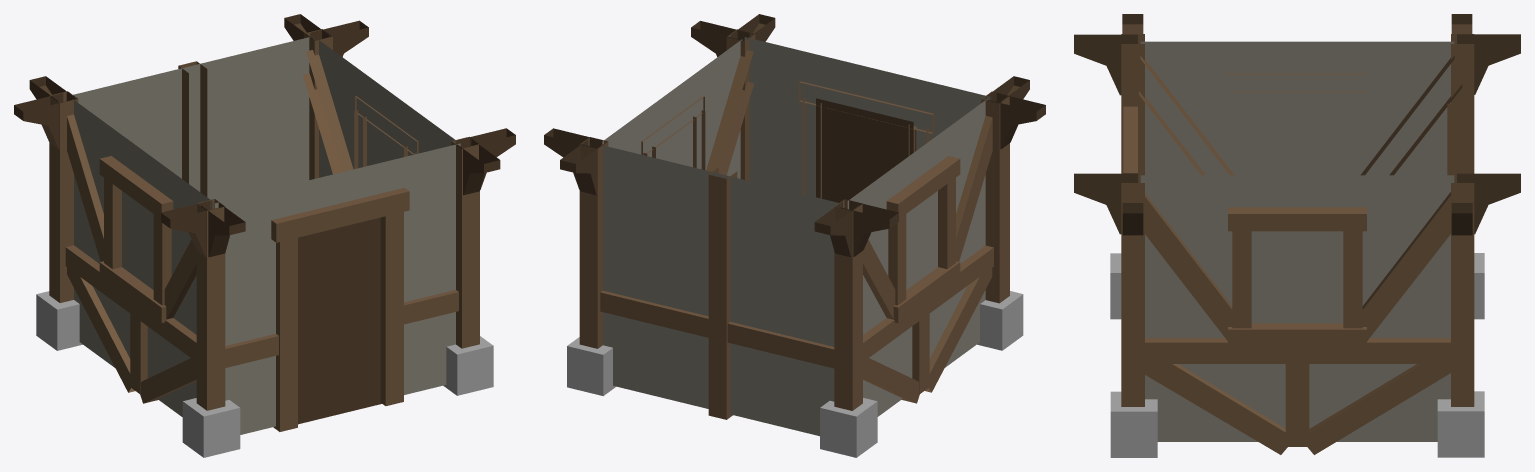
File: M_HouseTower_RDC.fbx
3 renders of one model, left to right at view 1: azimuth 30°, elevation 25°; view 2: azimuth 150°, elevation 25°; view 3: azimuth 270°, elevation 25°, orthographic. The views are drawn at different scales.
Parts seen in each view (by area): view 1: polySurface1, pCube5, Door_low, pCube112, pCube6, pCube111, pCube13, pCube14, pCube24, pCube17, pCube25, pCube110 (+24 smaller); view 2: pCube5, polySurface1, pCube112, pCube6, Door_low, pCube52, pCube17, pCube21, pCube16, pCube111, pCube29, pCube116 (+23 smaller); view 3: pCube6, pCube112, pCube20, pCube14, pCube16, pCube48, pCube47, pCube45, pCube46, pCube34, pCube33, pCube26 (+18 smaller).
Part boxes in pixels (x1,y1,x2,y2): polySurface1: (215, 143, 460, 434); pCube5: (72, 37, 310, 201); Door_low: (298, 217, 381, 424); pCube112: (72, 99, 212, 416); pCube6: (317, 39, 457, 177); pCube111: (196, 199, 225, 410); pCube13: (380, 212, 403, 405); pCube14: (451, 136, 479, 348); pCube24: (273, 237, 297, 431); pCube17: (49, 91, 78, 302); pCube25: (271, 187, 409, 242); pCube110: (182, 398, 240, 457); pCube5: (602, 145, 840, 436); polySurface1: (744, 37, 990, 197); pCube112: (847, 99, 987, 416); pCube6: (602, 39, 742, 178); Door_low: (816, 98, 913, 202); pCube52: (708, 167, 737, 419); pCube17: (834, 199, 862, 410); pCube21: (600, 290, 834, 368); pCube16: (579, 137, 608, 348); pCube111: (981, 91, 1009, 303); pCube29: (820, 398, 877, 457); pCube116: (863, 245, 993, 361); pCube6: (1140, 175, 1454, 441); pCube112: (1140, 41, 1454, 175); pCube20: (1145, 338, 1450, 363); pCube14: (1121, 173, 1144, 406); pCube16: (1451, 173, 1474, 406); pCube48: (1145, 364, 1287, 454); pCube47: (1307, 364, 1450, 454); pCube45: (1362, 192, 1450, 340); pCube46: (1145, 193, 1232, 340); pCube34: (1228, 207, 1366, 231); pCube33: (1228, 323, 1366, 347); pCube26: (1110, 391, 1157, 457).
Size of the model in its own units: 3.8 by 2.59 by 3.8.
